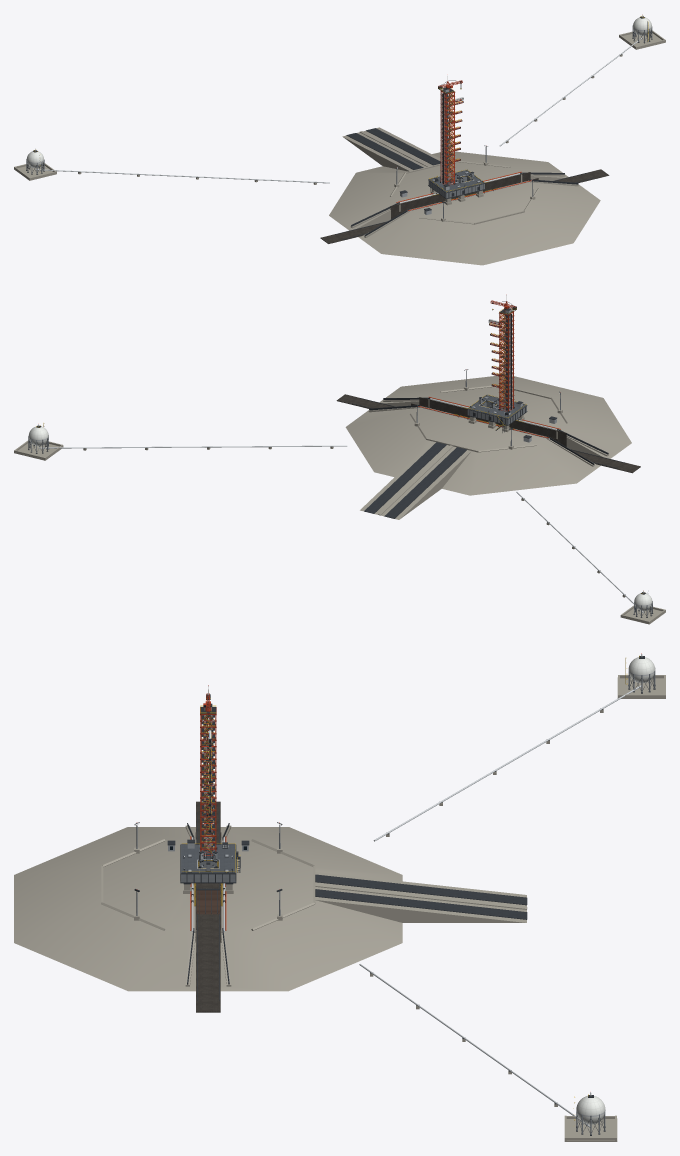
File: lc39a_apollo.glb
3 views of the same model, one above another, from view 1: azimuth 30°, elevation 25°; view 2: azimuth 150°, elevation 25°; view 3: azimuth 270°, elevation 25° (orthographic). The views are drawn at different scales.
Parts seen in each view (by area): view 1: PAD, SPHERES, LUT, ML; view 2: PAD, SPHERES, LUT, ML; view 3: PAD, SPHERES, ML, LUT.
Part boxes in pixels (x1=…): PAD: x1=320, y1=127, x2=609, y2=265; SPHERES: x1=14, y1=14, x2=665, y2=184; LUT: x1=438, y1=76, x2=462, y2=185; ML: x1=428, y1=169, x2=485, y2=205; PAD: x1=336, y1=369, x2=640, y2=519; SPHERES: x1=14, y1=423, x2=665, y2=624; LUT: x1=490, y1=294, x2=516, y2=411; ML: x1=467, y1=394, x2=527, y2=432; PAD: x1=14, y1=801, x2=527, y2=1012; SPHERES: x1=359, y1=653, x2=665, y2=1141; ML: x1=180, y1=839, x2=240, y2=893; LUT: x1=199, y1=685, x2=217, y2=855.
Bounding box in the file's own units: 85.96 × 18.27 × 51.13.
Materials: 22 (13 with a texture image).
